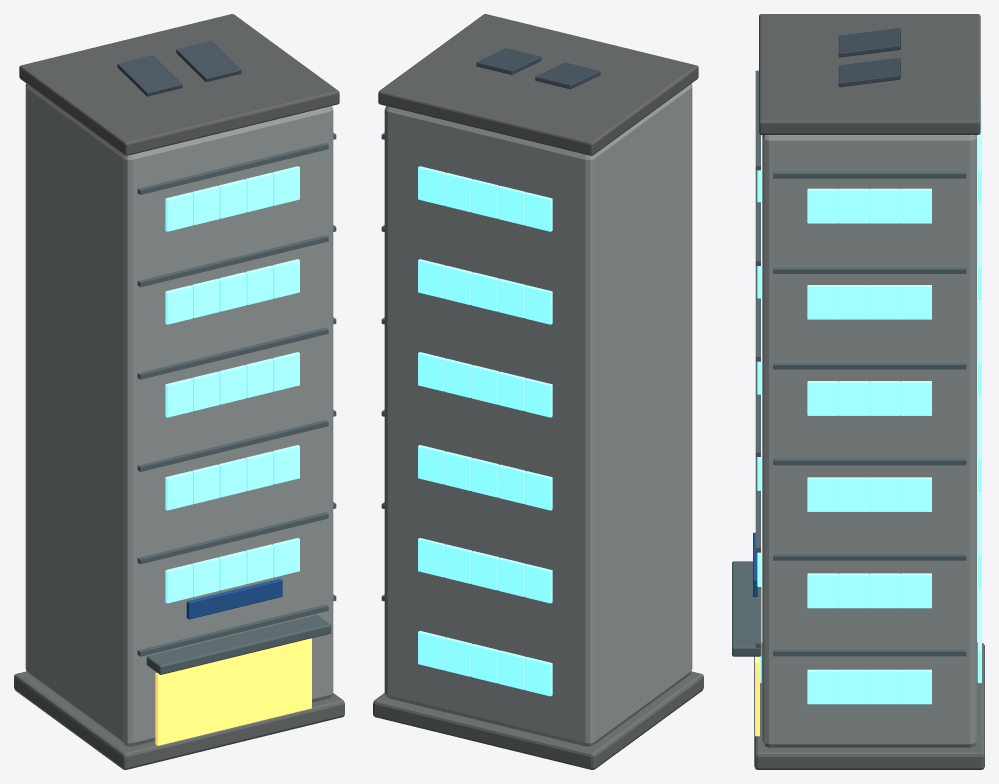
Rendered from commercial_office_midrise.glb.
3 renders of one model, left to right at view 1: azimuth 30°, elevation 25°; view 2: azimuth 150°, elevation 25°; view 3: azimuth 270°, elevation 25°, orthographic. The views are drawn at different scales.
Parts seen in each view (by area): view 1: main_massing, roof_slab, storefront_glazing, foundation, storefront_awning, shop_sign, roof_panel, roof_panel.001, facade_band_front, facade_band_front.001, facade_band_front.003, facade_band_front.002 (+27 smaller); view 2: main_massing, roof_slab, foundation, roof_panel.001, roof_panel, rear_window.028, rear_window.010, rear_window.013, rear_window.022, rear_window.025, rear_window.027, rear_window.007 (+23 smaller); view 3: main_massing, roof_slab, foundation, storefront_awning, facade_band_side, facade_band_side.002, facade_band_side.003, facade_band_side.005, roof_panel, roof_panel.001, facade_band_side.001, facade_band_side.004 (+29 smaller).
Part boxes in pixels (box(x1,y1,x2,y2)): main_massing: box(25, 83, 333, 746); roof_slab: box(19, 14, 339, 155); storefront_glazing: box(155, 638, 311, 745); foundation: box(14, 671, 344, 769); storefront_awning: box(146, 615, 331, 674); shop_sign: box(186, 578, 282, 619); roof_panel: box(117, 55, 182, 96); roof_panel.001: box(176, 41, 241, 81); facade_band_front: box(137, 604, 328, 656); facade_band_front.001: box(137, 512, 328, 564); facade_band_front.003: box(137, 327, 328, 379); facade_band_front.002: box(137, 420, 328, 471); main_massing: box(384, 83, 692, 746); roof_slab: box(378, 14, 698, 155); foundation: box(373, 671, 703, 769); roof_panel.001: box(476, 48, 541, 74); roof_panel: box(535, 62, 600, 89); rear_window.028: box(444, 172, 472, 212); rear_window.010: box(525, 471, 552, 510); rear_window.013: box(444, 451, 472, 490); rear_window.022: box(471, 272, 498, 311); rear_window.025: box(525, 192, 552, 231); rear_window.027: box(471, 179, 498, 218); rear_window.007: box(471, 551, 498, 590); main_massing: box(762, 135, 976, 747); roof_slab: box(759, 14, 980, 134); foundation: box(754, 642, 984, 769); storefront_awning: box(732, 561, 761, 656); facade_band_side: box(773, 649, 966, 656); facade_band_side.002: box(773, 458, 966, 465); facade_band_side.003: box(773, 362, 966, 369); facade_band_side.005: box(773, 171, 966, 178); roof_panel: box(838, 28, 900, 57); roof_panel.001: box(838, 57, 900, 87); facade_band_side.001: box(773, 554, 966, 560); facade_band_side.004: box(773, 267, 966, 273).
Bounding box in the file's own units: 1.36 × 3.75 × 1.29.
